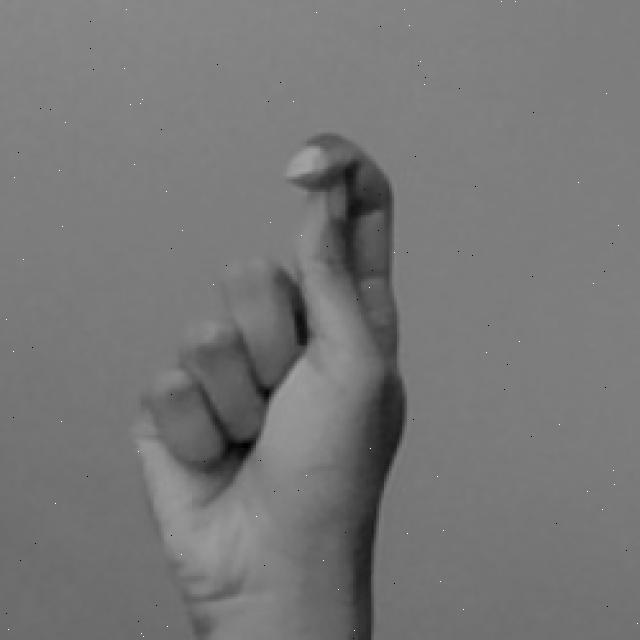T: (109, 124, 412, 640)
